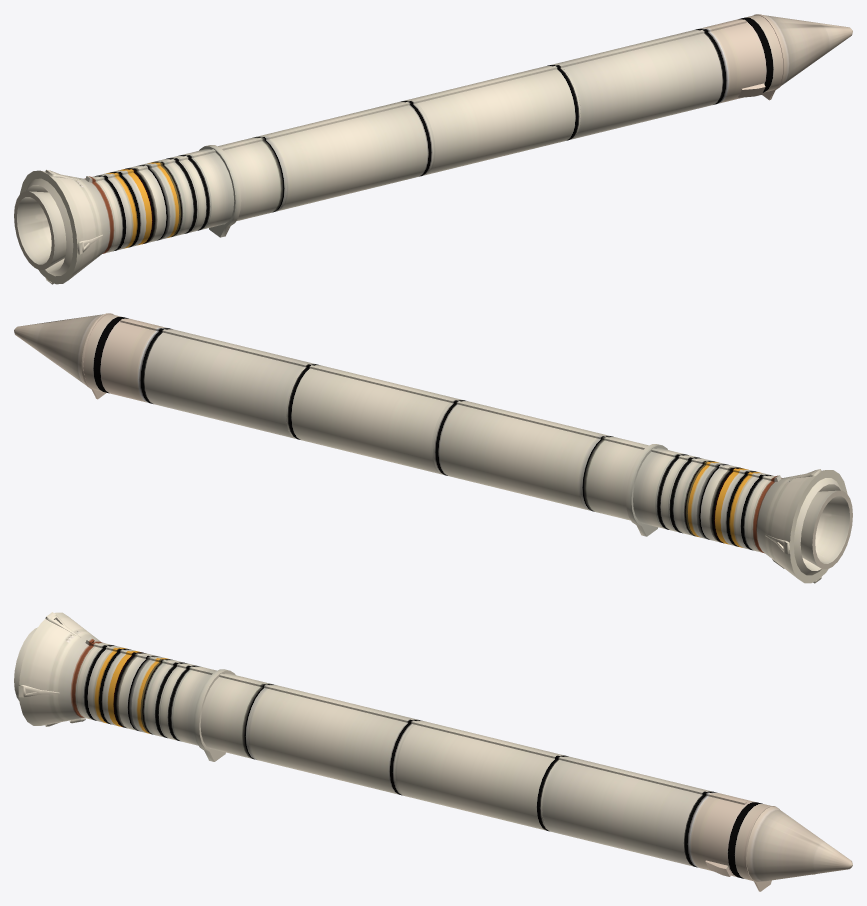
File: solid_rocket_booster.glb
3 renders of one model, top to bottom at view 1: azimuth 30°, elevation 25°; view 2: azimuth 150°, elevation 25°; view 3: azimuth 330°, elevation 25°, orthographic.
Visible parts, largest first — view 1: srb.layer1; view 2: srb.layer1; view 3: srb.layer1.
Boxes of the visible parts, x1=… form: srb.layer1: x1=14, y1=14, x2=852, y2=284; srb.layer1: x1=14, y1=313, x2=852, y2=583; srb.layer1: x1=14, y1=612, x2=852, y2=891.
Bounding box in the file's own units: 1781 × 229 × 229.
1 material, 1 textured.
